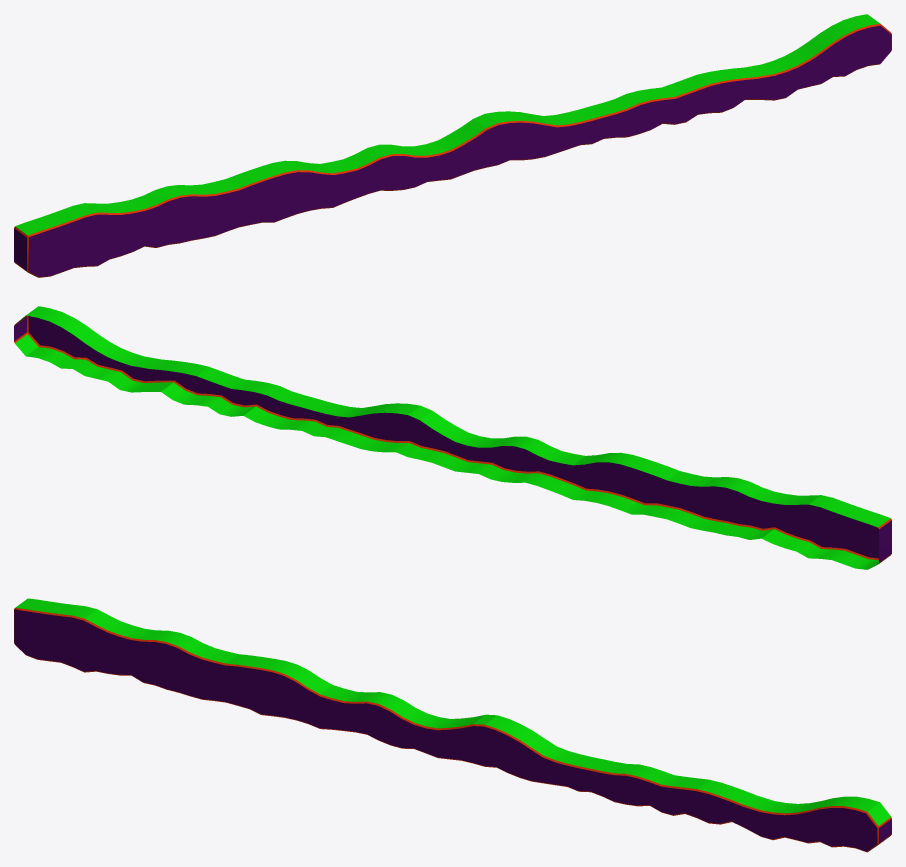
The model's file is Floating Piece 2.fbx.
3 views of the same model, one above another, from view 1: azimuth 30°, elevation 25°; view 2: azimuth 150°, elevation 25°; view 3: azimuth 330°, elevation 25° (orthographic).
Visible parts, largest first — view 1: Floating_piece_2; view 2: Floating_piece_2; view 3: Floating_piece_2.
Boxes of the visible parts, bbox=[...] form: Floating_piece_2: bbox=[14, 14, 891, 277]; Floating_piece_2: bbox=[14, 306, 891, 569]; Floating_piece_2: bbox=[14, 598, 891, 852].
Size of the model in its own units: 73.47 by 4.41 by 2.
